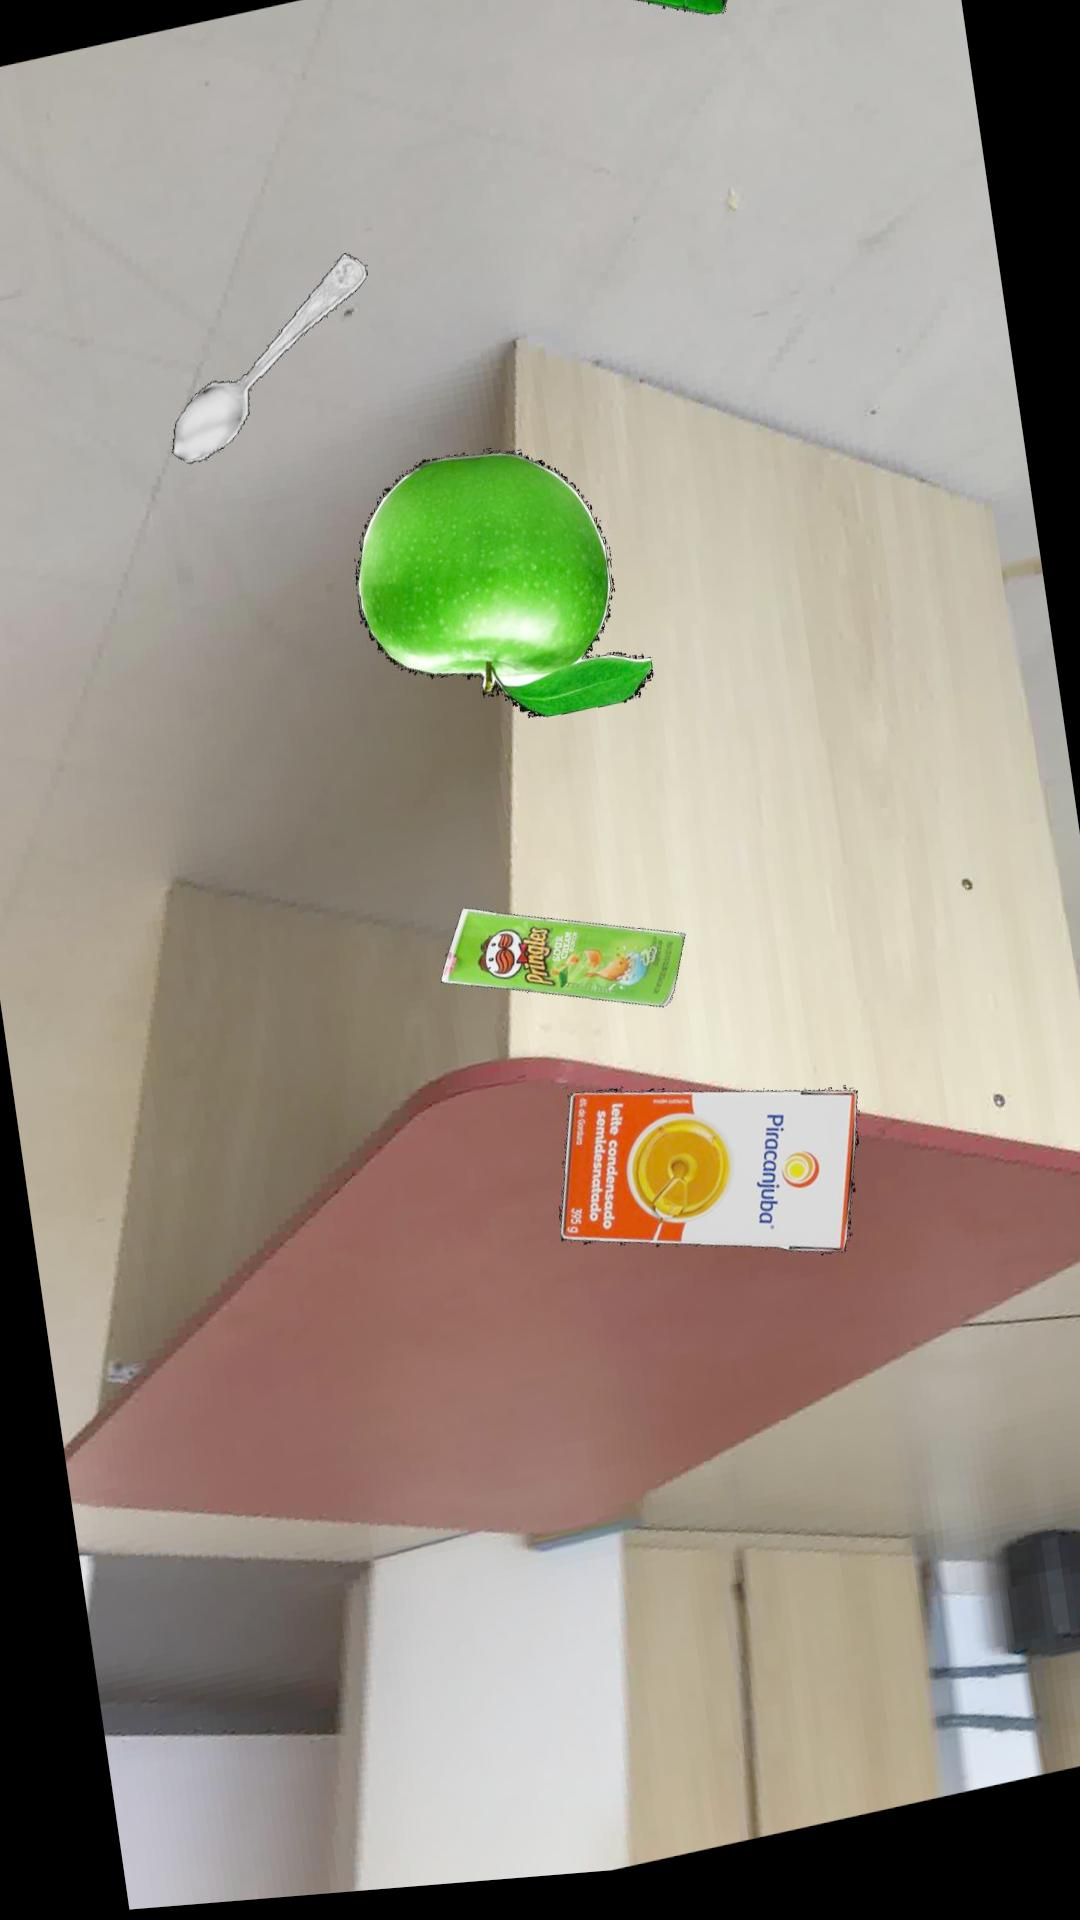cleaner: (591, 0, 729, 29)
green apple: (353, 460, 653, 728)
pringles: (439, 916, 684, 1021)
spoon: (170, 260, 367, 468)
